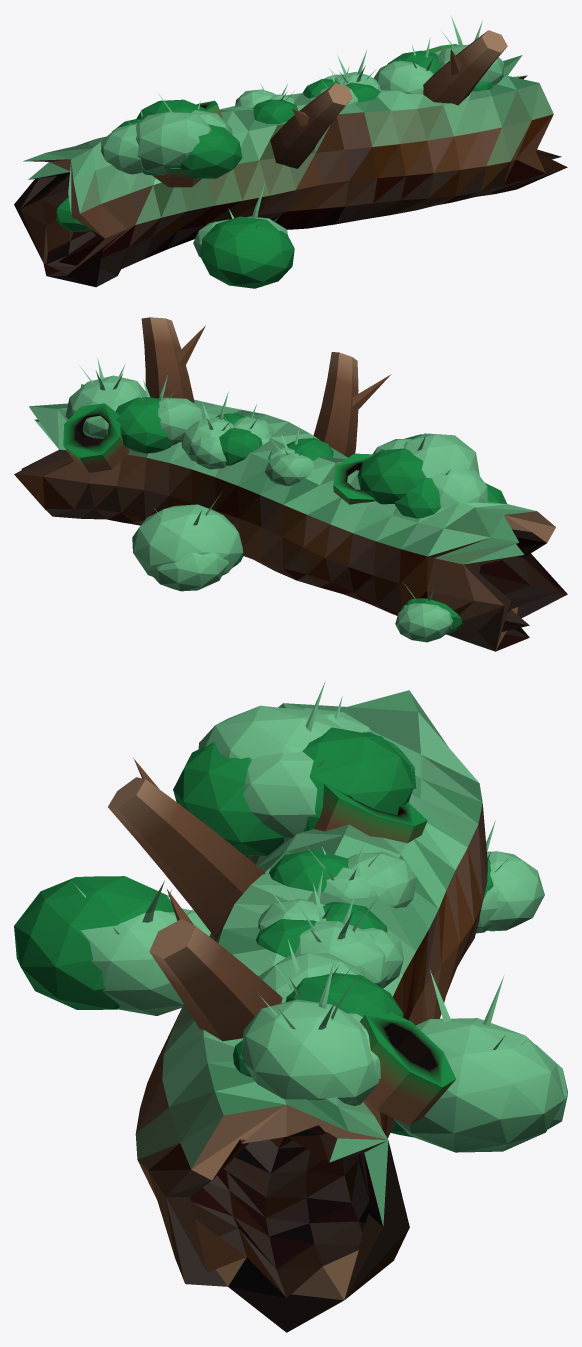
Rendered from pohon_tumbang_hollow_rainforest_517077.glb.
3 views of the same model, one above another, from view 1: azimuth 30°, elevation 25°; view 2: azimuth 150°, elevation 25°; view 3: azimuth 270°, elevation 25° (orthographic). The views are drawn at different scales.
Parts seen in each view (by area): view 1: Batang_Pohon_Berlubang; view 2: Batang_Pohon_Berlubang; view 3: Batang_Pohon_Berlubang.
Boxes of the visible parts, x1=… form: Batang_Pohon_Berlubang: x1=14, y1=15, x2=567, y2=288; Batang_Pohon_Berlubang: x1=14, y1=317, x2=567, y2=651; Batang_Pohon_Berlubang: x1=14, y1=681, x2=567, y2=1332.
Size of the model in its own units: 6.56 by 2.37 by 3.45.
